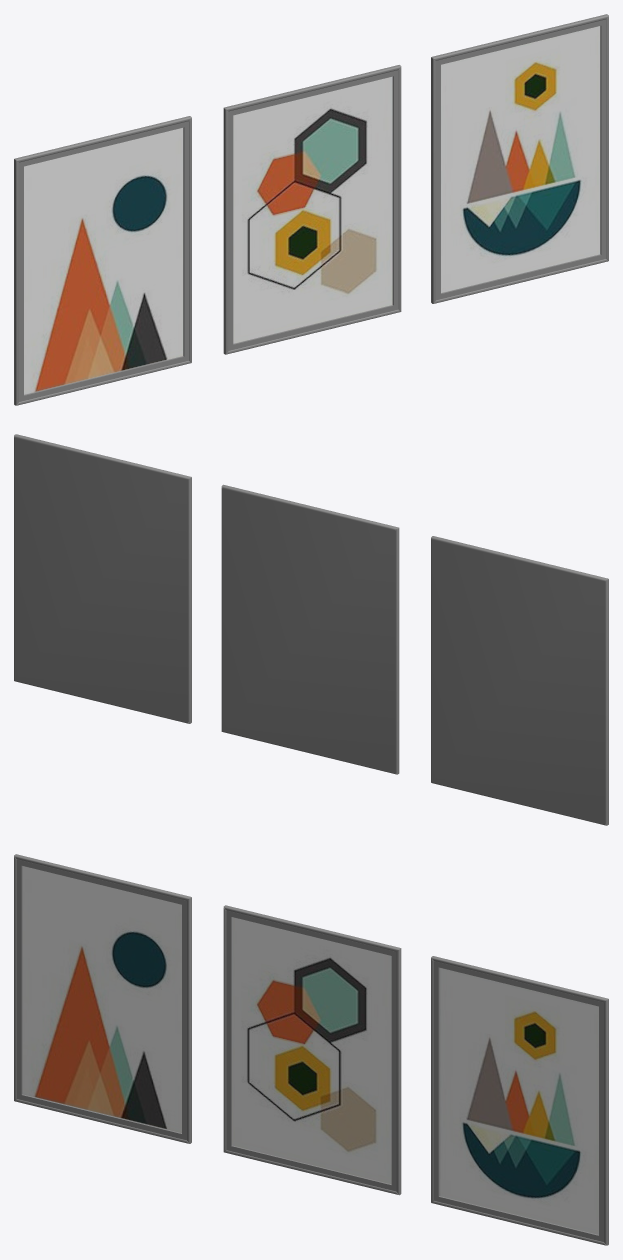
Rendered from Set of 3 pieces Rectangular.FBX.
The picture shows the model from 3 angles, top to bottom: view 1: azimuth 30°, elevation 25°; view 2: azimuth 150°, elevation 25°; view 3: azimuth 330°, elevation 25°; orthographic projection.
Parts seen in each view (by area): view 1: Box005; view 2: Box005; view 3: Box005.
Boxes of the visible parts, x1,y1,x2,y2 form: Box005: [14, 14, 608, 405]; Box005: [14, 434, 608, 825]; Box005: [14, 854, 608, 1245].
Size of the model in its own units: 808 by 320 by 6.54.
